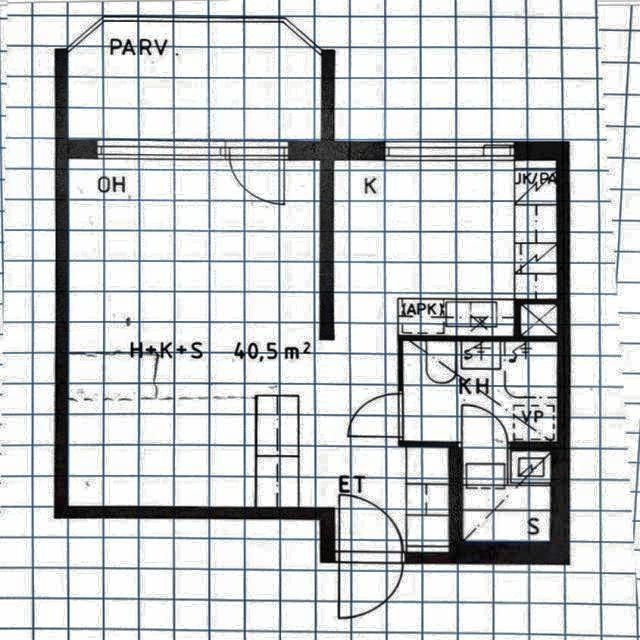room: (403, 341, 558, 442), (463, 450, 550, 542)
